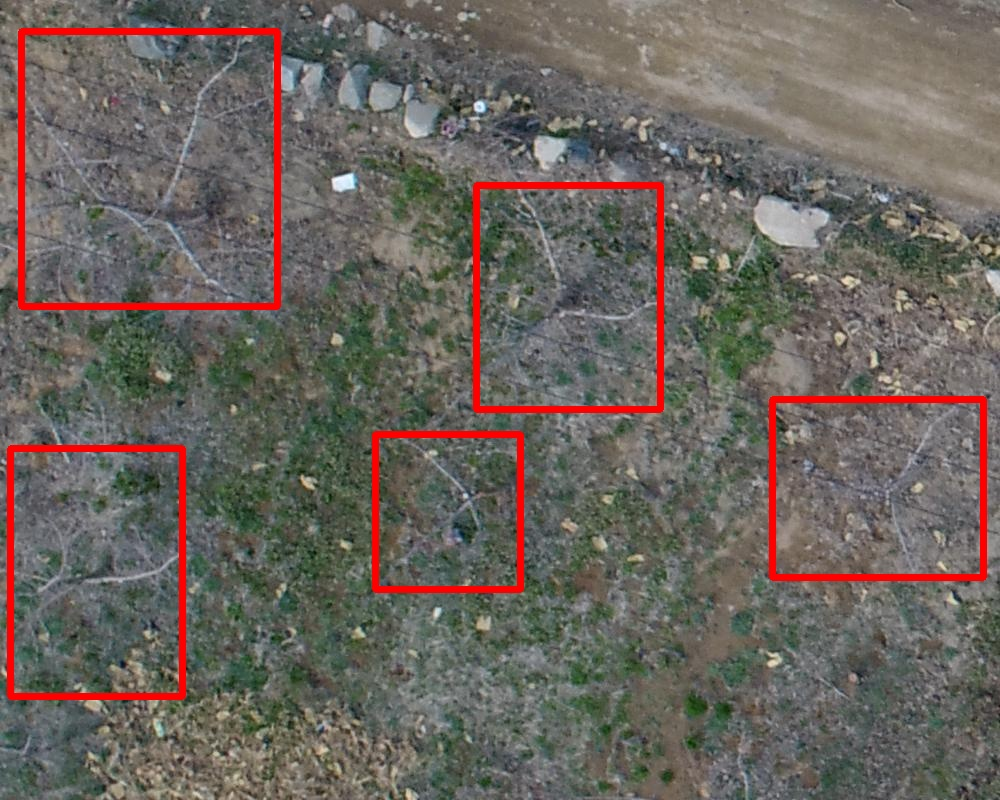apple: (21, 31, 277, 306), (10, 448, 182, 696), (476, 185, 660, 409), (772, 399, 983, 577), (375, 434, 520, 589)
